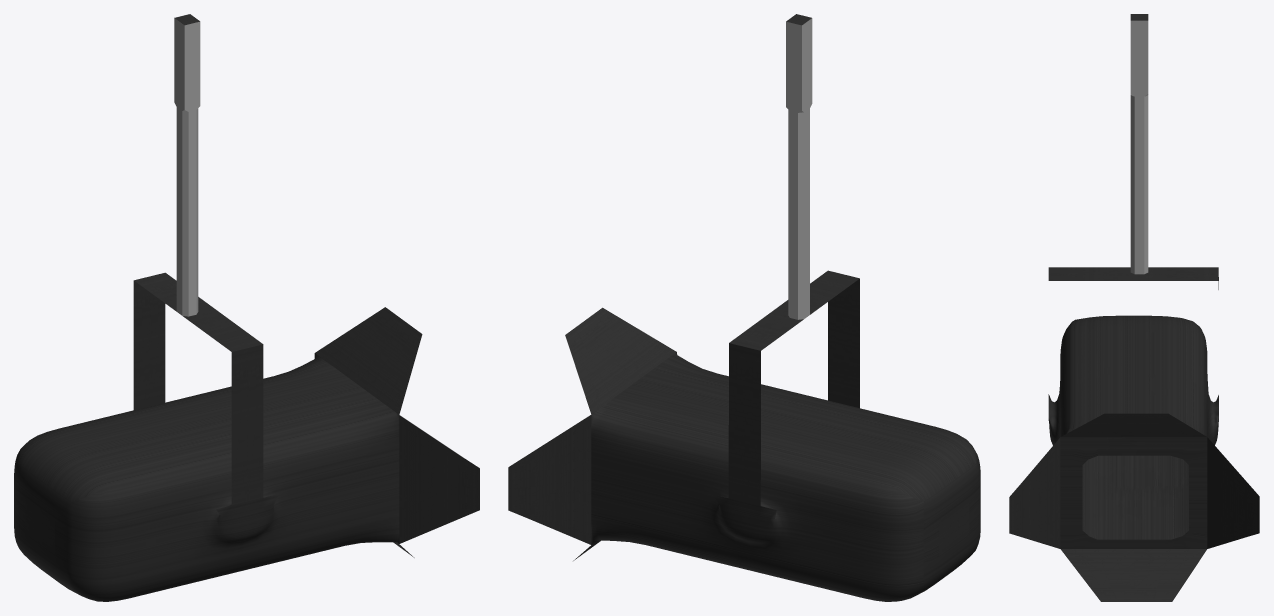
File: Stage.fbx
3 views of the same model, side by side, from view 1: azimuth 30°, elevation 25°; view 2: azimuth 150°, elevation 25°; view 3: azimuth 270°, elevation 25° (orthographic). The views are drawn at different scales.
Visible parts, largest first — view 1: pCube1; view 2: pCube1; view 3: pCube1.
Boxes of the visible parts, bbox=[...] form: pCube1: bbox=[14, 14, 479, 601]; pCube1: bbox=[508, 14, 980, 601]; pCube1: bbox=[1009, 14, 1259, 601].
Size of the model in its own units: 2.52 by 3.74 by 1.7.
2 materials, 1 textured.
